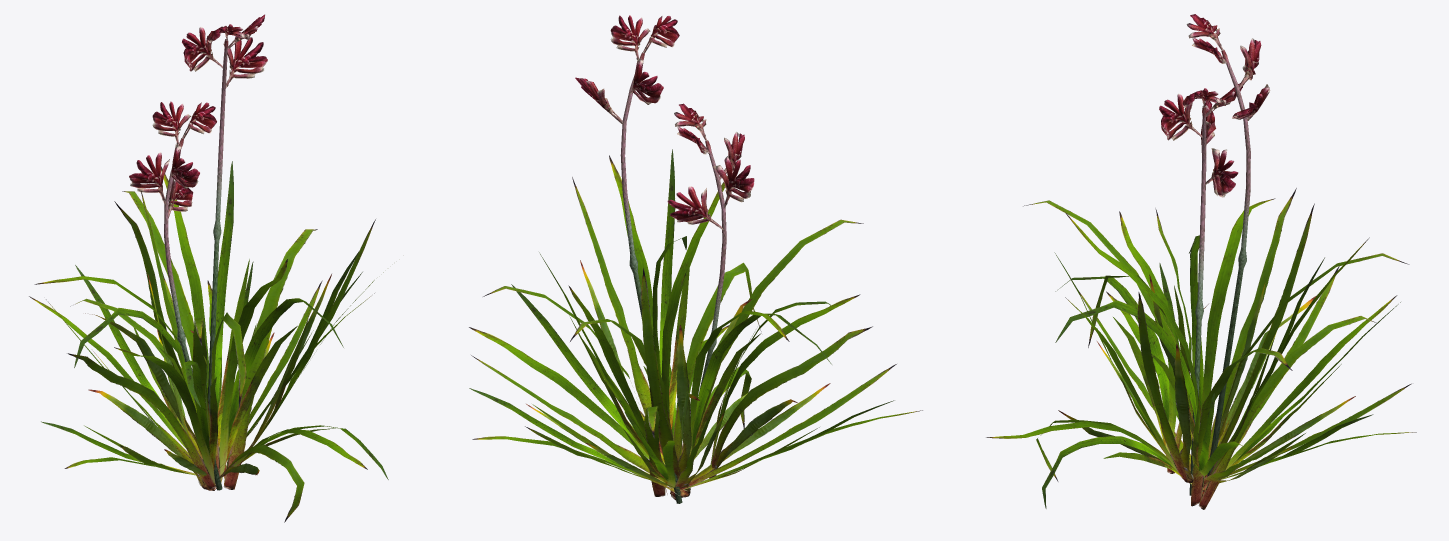
The model's file is KangarooPawRed.fbx.
The picture shows the model from 3 angles, left to right: view 1: azimuth 30°, elevation 25°; view 2: azimuth 150°, elevation 25°; view 3: azimuth 270°, elevation 25°; orthographic projection. The views are drawn at different scales.
Visible parts, largest first — view 1: RedKangarooPawLeaves_LOD0, RedKangarooPawFlowers_LOD0; view 2: RedKangarooPawLeaves_LOD0, RedKangarooPawFlowers_LOD0; view 3: RedKangarooPawLeaves_LOD0, RedKangarooPawFlowers_LOD0.
Boxes of the visible parts, bbox=[...] form: RedKangarooPawLeaves_LOD0: bbox=[29, 161, 388, 522]; RedKangarooPawFlowers_LOD0: bbox=[129, 14, 267, 490]; RedKangarooPawLeaves_LOD0: bbox=[469, 149, 922, 500]; RedKangarooPawFlowers_LOD0: bbox=[575, 15, 754, 503]; RedKangarooPawLeaves_LOD0: bbox=[986, 188, 1416, 509]; RedKangarooPawFlowers_LOD0: bbox=[1159, 14, 1270, 495].
Size of what is drawn, in the model's own units: 84.05 by 97.21 by 79.18.
